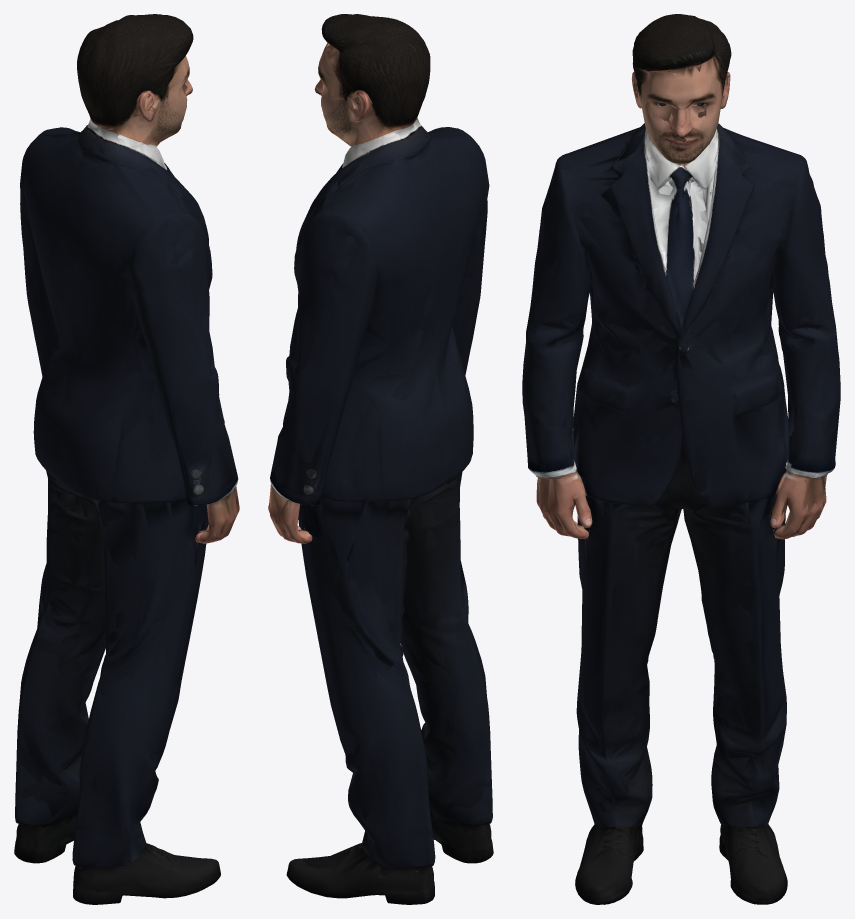
File: security-guard.glb
3 views of the same model, side by side, from view 1: azimuth 30°, elevation 25°; view 2: azimuth 150°, elevation 25°; view 3: azimuth 270°, elevation 25° (orthographic). The views are drawn at different scales.
Parts seen in each view (by area): view 1: Guard_High, Guard_Low; view 2: Guard_High, Guard_Low; view 3: Guard_High, Guard_Low.
Boxes of the visible parts, x1,y1,x2,y2 form: Guard_High: [14, 14, 239, 904]; Guard_Low: [16, 14, 239, 897]; Guard_High: [268, 14, 493, 904]; Guard_Low: [269, 14, 490, 901]; Guard_High: [522, 14, 840, 904]; Guard_Low: [522, 14, 840, 904].
Size of the model in its own units: 0.2025 by 1 by 0.3332.
Materials: 1 (1 with a texture image).
